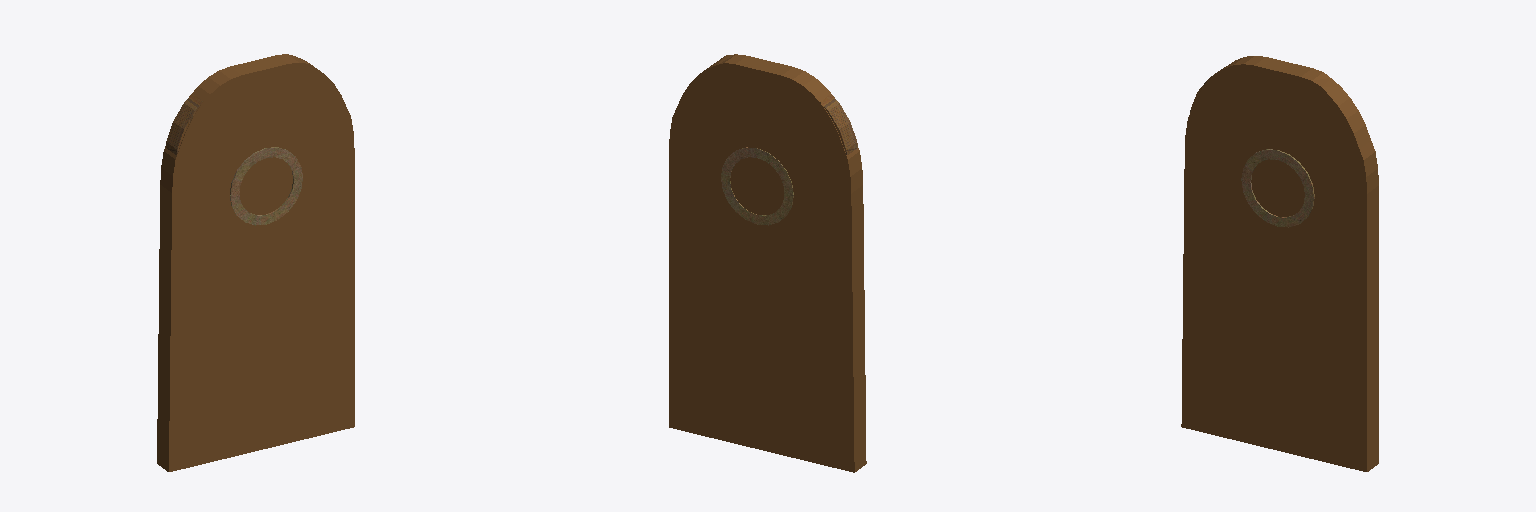
3 renders of one model, left to right at view 1: azimuth 30°, elevation 25°; view 2: azimuth 150°, elevation 25°; view 3: azimuth 330°, elevation 25°, orthographic.
Visible parts, largest first — view 1: polySurface221; view 2: polySurface221; view 3: polySurface221.
Part boxes in pixels (bbox=[...]): polySurface221: bbox=[157, 54, 354, 471]; polySurface221: bbox=[669, 54, 866, 472]; polySurface221: bbox=[1181, 56, 1378, 471].
Bounding box in the file's own units: 1.02 × 1.99 × 0.1251.
3 materials, 3 textured.